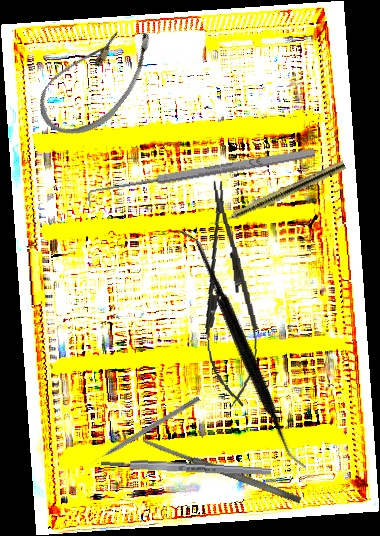Cannula: (28, 4, 165, 153)
Handpiece: (208, 158, 347, 232)
Hook Surgical: (85, 145, 318, 208)
Needle Holder: (192, 176, 265, 410)
Pusher: (87, 394, 201, 467)
Scalpel Handle: (100, 458, 272, 477)
Spatula Surgical: (106, 228, 378, 470), (141, 436, 303, 505)
